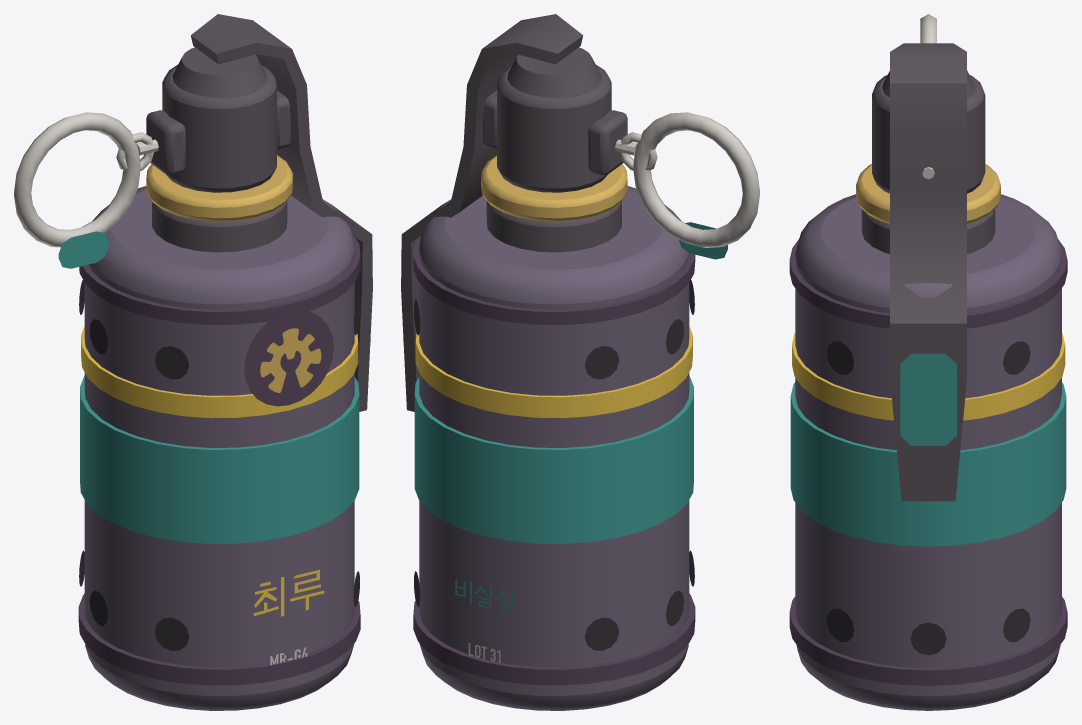
Rendered from monatium_teargas.glb.
The picture shows the model from 3 angles, left to right: view 1: azimuth 30°, elevation 25°; view 2: azimuth 150°, elevation 25°; view 3: azimuth 270°, elevation 25°; orthographic projection.
Visible parts, largest first — view 1: body, body_fine, lever, pin, pin_fine; view 2: body, lever, pin, body_fine, pin_fine; view 3: body, lever, lever_fine, body_fine, pin.
Part boxes in pixels (x1,y1,x2,y2): body: (78,47,360,710); body_fine: (79,280,359,665); lever: (190,14,372,411); pin: (14,112,158,247); pin_fine: (58,231,108,268); body: (413,47,695,710); lever: (401,14,583,411); pin: (615,112,759,247); body_fine: (414,280,694,662); pin_fine: (679,222,727,259); body: (789,70,1067,710); lever: (890,43,966,501); lever_fine: (900,353,956,445); body_fine: (826,341,1030,655); pin: (920,14,936,179).
Bounding box in the file's own units: 0.0686 × 0.1211 × 0.0492.
